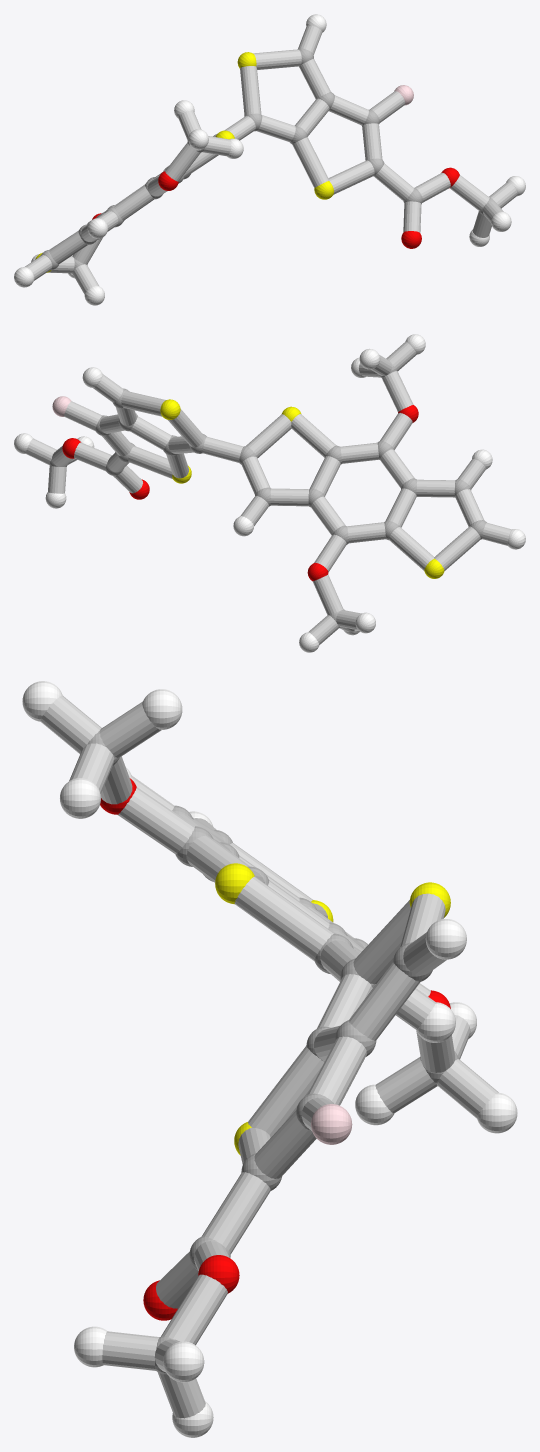
Rendered from Dimethoxy_Benzodithiophene_Phi_10_Theta_90_Methylcarbonyl_3_Fluoro_Thienothiophene.glb.
3 renders of one model, top to bottom at view 1: azimuth 30°, elevation 25°; view 2: azimuth 150°, elevation 25°; view 3: azimuth 270°, elevation 25°, orthographic. The views are drawn at different scales.
Parts seen in each view (by area): view 1: grp15205, grp8689, grp1, grp13395, grp7241; view 2: grp15205, grp8689, grp1, grp7241, grp13395; view 3: grp15205, grp8689, grp1, grp13395, grp7241, grp14843.
Part boxes in pixels (left/top/right/bottom): grp15205: left=25, top=25, right=517, bottom=294; grp8689: left=14, top=14, right=525, bottom=305; grp1: left=41, top=48, right=496, bottom=273; grp13395: left=92, top=167, right=459, bottom=248; grp7241: left=35, top=52, right=334, bottom=272; grp15205: left=25, top=341, right=511, bottom=644; grp8689: left=14, top=334, right=525, bottom=652; grp1: left=49, top=363, right=486, bottom=627; grp7241: left=160, top=399, right=444, bottom=578; grp13395: left=62, top=405, right=418, bottom=581; grp15205: left=40, top=695, right=498, bottom=1418; grp8689: left=22, top=681, right=517, bottom=1437; grp1: left=87, top=731, right=458, bottom=1374; grp13395: left=100, top=778, right=450, bottom=1320; grp7241: left=215, top=863, right=450, bottom=1155; grp14843: left=311, top=1104, right=352, bottom=1144.
Size of the model in its own units: 17.02 by 7.51 by 7.2.
